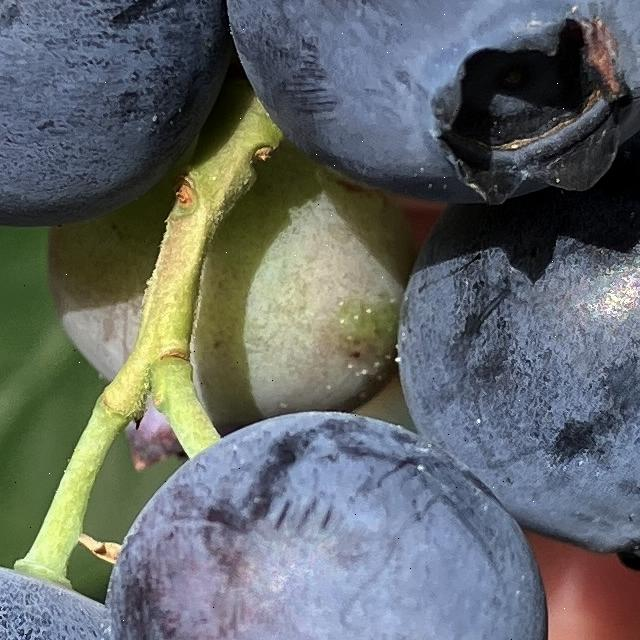Blueberries: (89, 404, 578, 640)
